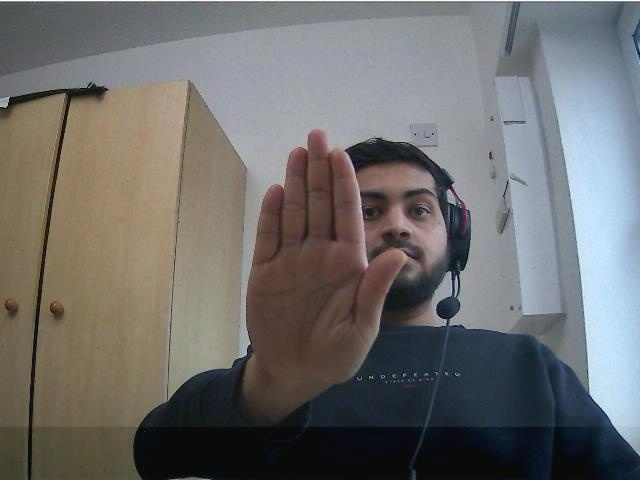up: (244, 127, 409, 386)
